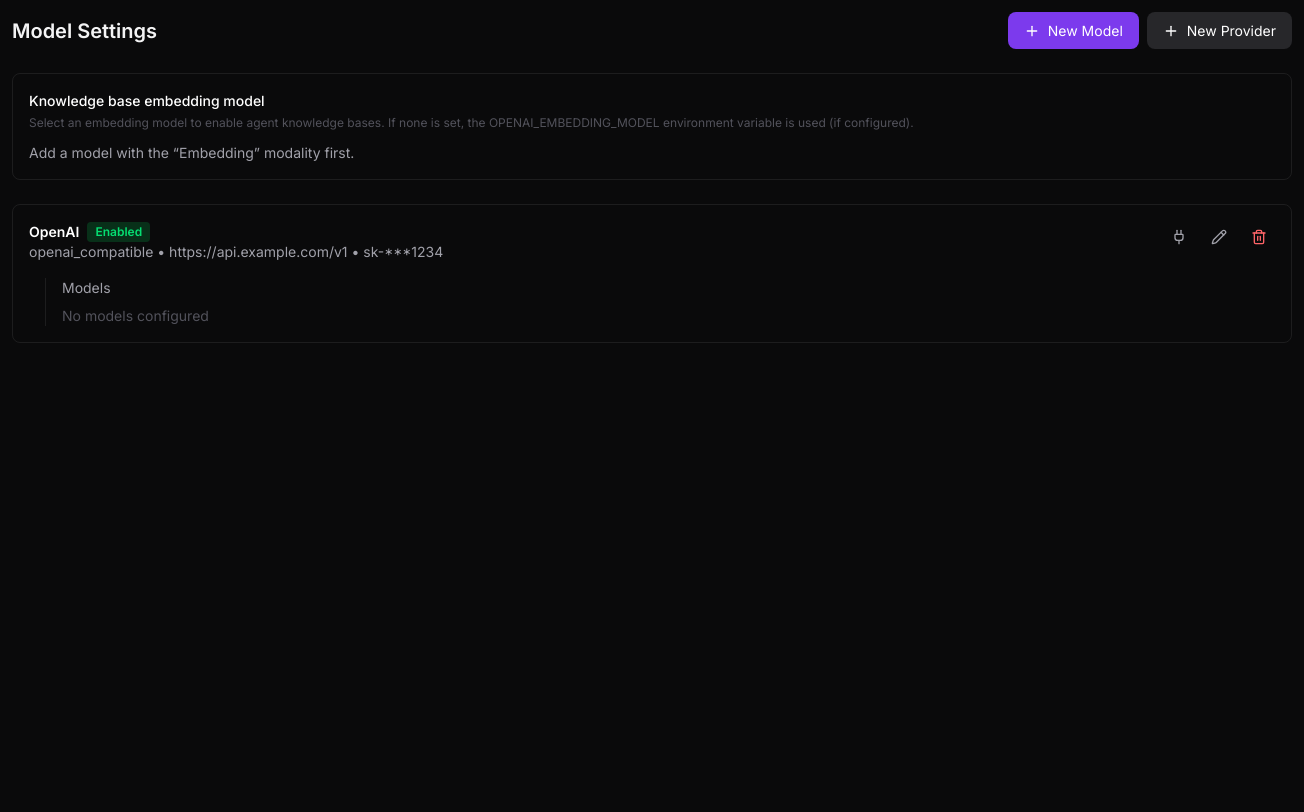
Test case: ModelSettingsTab › new model form shows text-only modality with coming soon message for image/video
Click the button "New Model".
click(1073, 30)  # box [1008,12,1139,49]
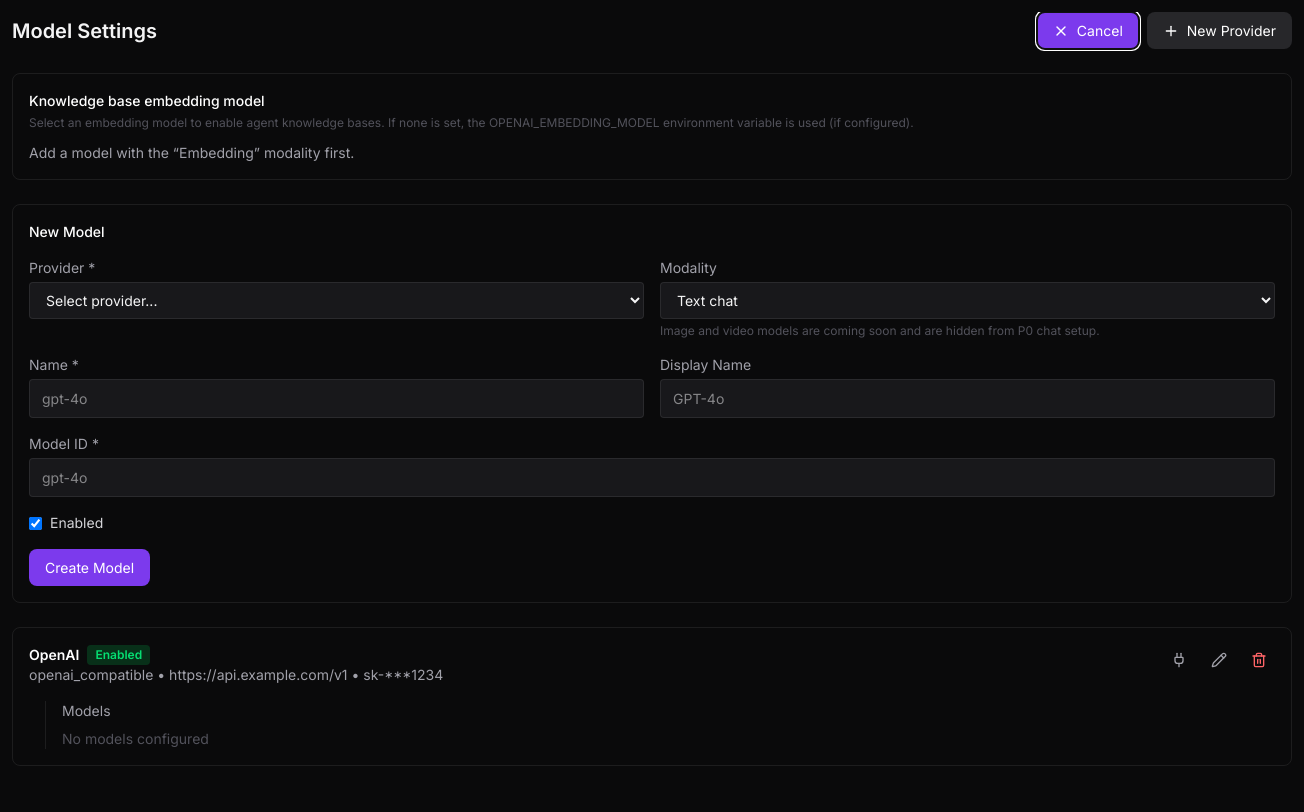
Expected: the text "Image and video models are coming soon" is shown, [660,323,1100,338]
Expected: the 2nd dropdown shows "Text chat", [660,282,1275,319]
